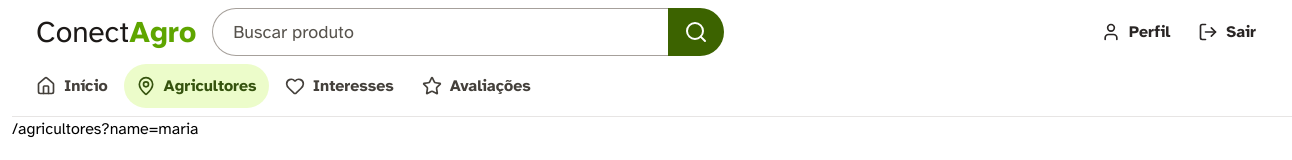
Test: HeaderSearch › takes the search to the catalog
The width and height of the screenshot is (1292, 160).
In the search field labelled "Buscar produto": (440, 32) x1=212 y1=8 x2=668 y2=56, type "couve"
Then press Enter
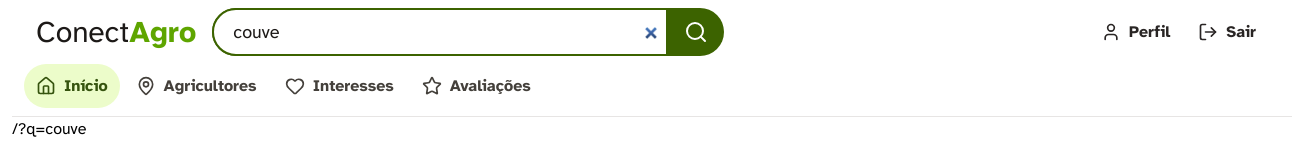
expect the text with test id "address" reads "/?q=couve": met, box x1=12 y1=119 x2=86 y2=139
